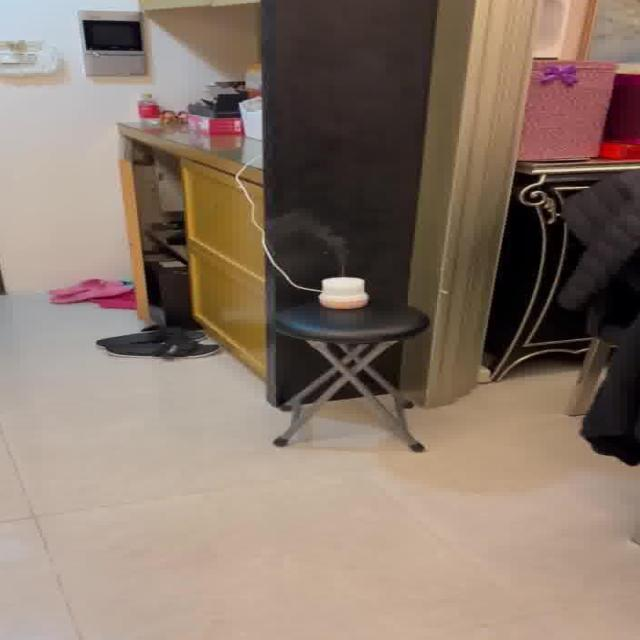fire: (286, 212, 356, 270)
